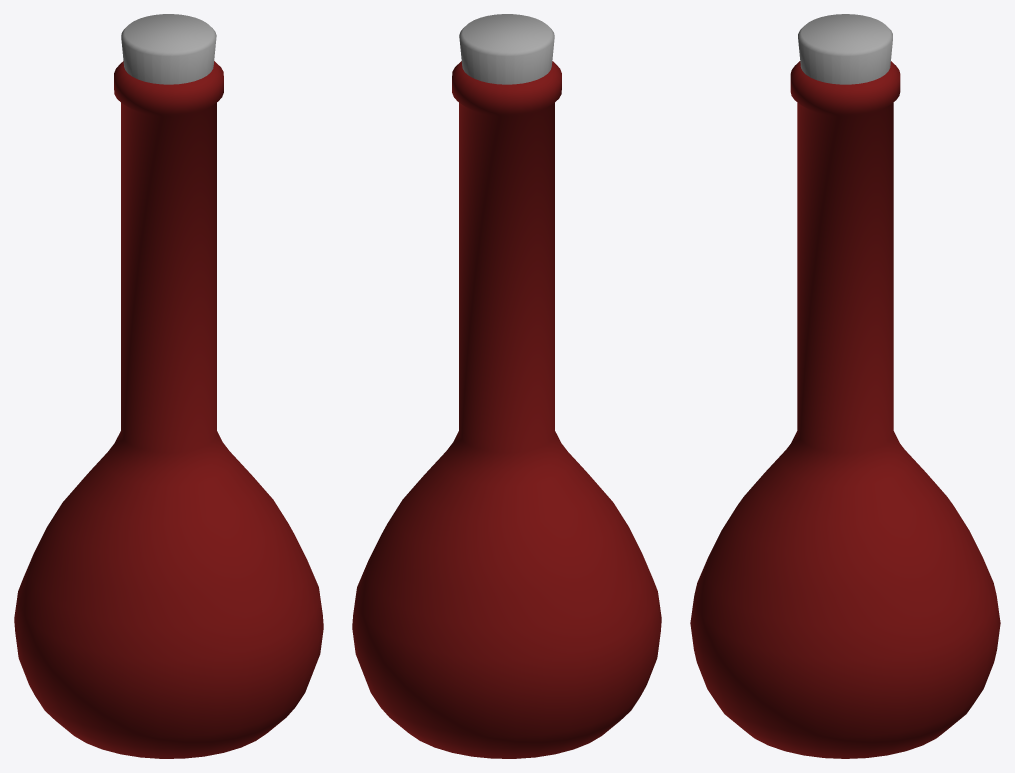
File: Flask volumetric.obj
3 renders of one model, left to right at view 1: azimuth 30°, elevation 25°; view 2: azimuth 150°, elevation 25°; view 3: azimuth 270°, elevation 25°, orthographic.
Parts seen in each view (by area): view 1: Flask_volumetric_Cylinder.017; view 2: Flask_volumetric_Cylinder.017; view 3: Flask_volumetric_Cylinder.017.
Part boxes in pixels (x1=…): Flask_volumetric_Cylinder.017: x1=14, y1=14, x2=323, y2=758; Flask_volumetric_Cylinder.017: x1=352, y1=14, x2=661, y2=758; Flask_volumetric_Cylinder.017: x1=690, y1=14, x2=1000, y2=758.
Bounding box in the file's own units: 1.46 × 3.59 × 1.46.
